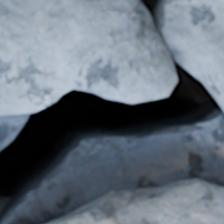brick: (48, 179, 223, 223)
broken_brick: (0, 0, 175, 116), (161, 0, 223, 112)
crack: (0, 0, 222, 223)
